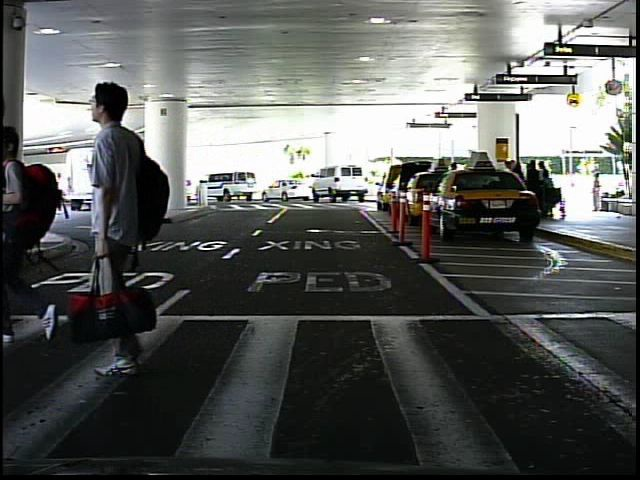person: (76, 67, 183, 384), (1, 112, 70, 350), (51, 171, 70, 221), (588, 169, 607, 215)
